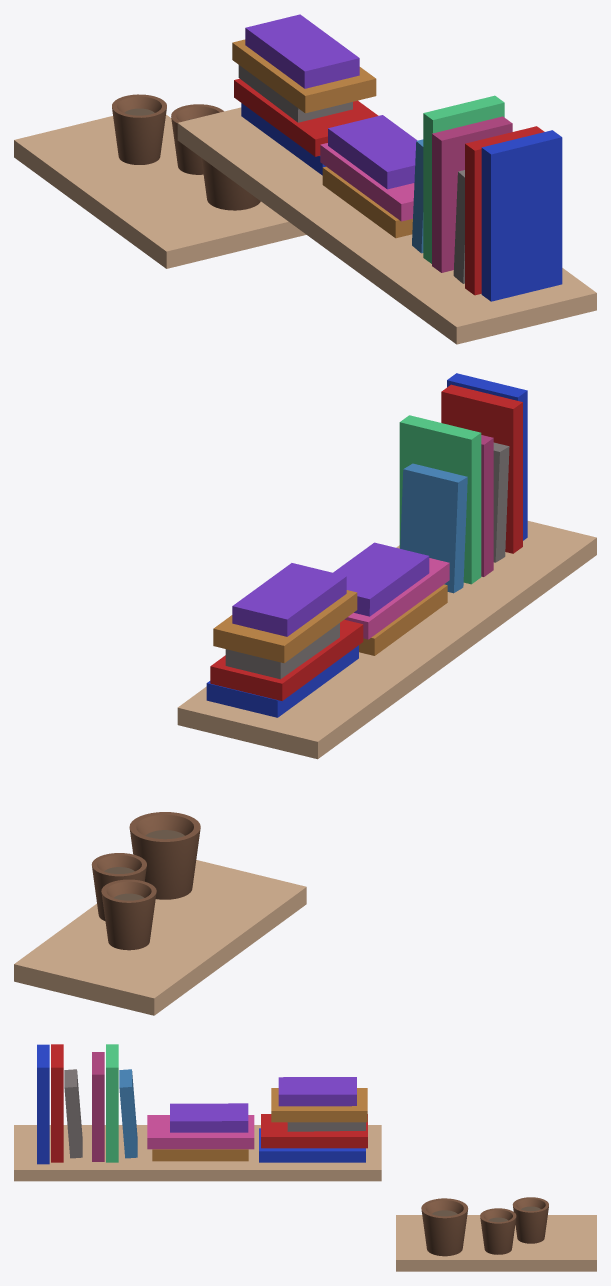
File: SM_Polki.fbx
3 views of the same model, one above another, from view 1: azimuth 30°, elevation 25°; view 2: azimuth 150°, elevation 25°; view 3: azimuth 270°, elevation 25° (orthographic). The views are drawn at different scales.
Visible parts, largest first — view 1: Cube.061; view 2: Cube.061; view 3: Cube.061.
Part boxes in pixels (x1,y1,x2,y2): Cube.061: [14, 14, 596, 344]; Cube.061: [14, 373, 596, 1015]; Cube.061: [14, 1044, 596, 1271].
Size of the model in its own units: 56.05 by 306 by 115.
